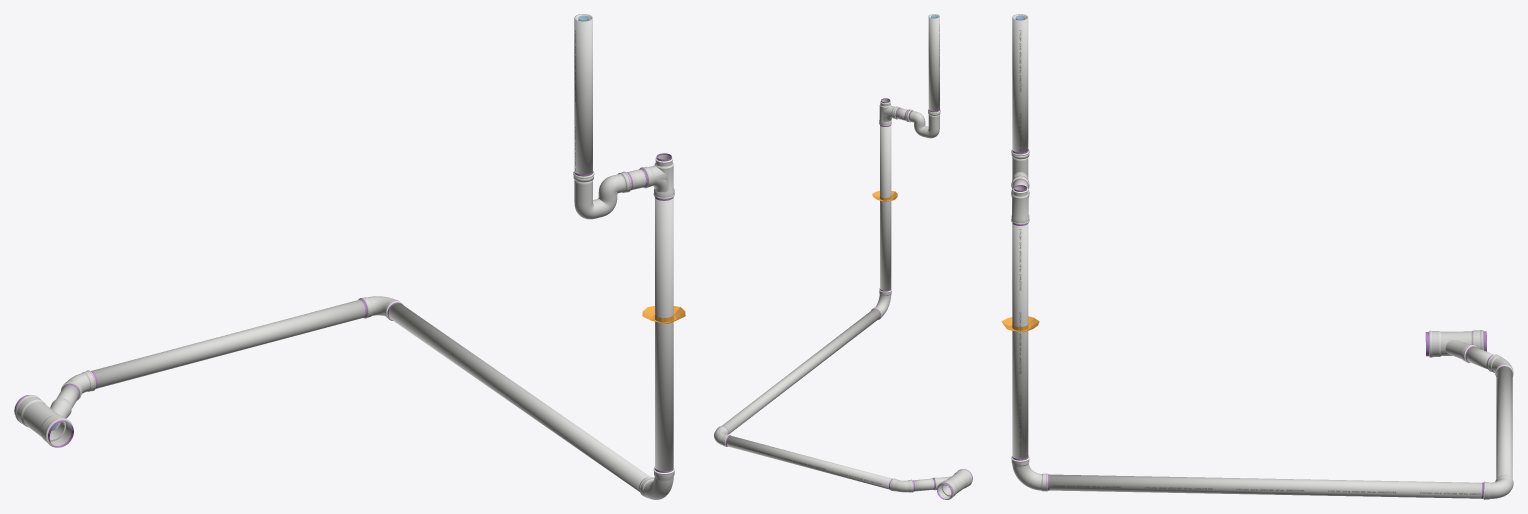
Rendered from pipes_dwv__fault-none+belly+vent_open_attic+vent_hole_wall+condensate_trap_dry.glb.
The picture shows the model from 3 angles, left to right: view 1: azimuth 30°, elevation 25°; view 2: azimuth 150°, elevation 25°; view 3: azimuth 270°, elevation 25°; orthographic projection. The views are drawn at different scales.
Parts seen in each view (by area): view 1: pipe_dwv_laundry, pipe_dwv_laundry_standpipe, fit_wye_pipe_dwv_laundry, laundry_p_trap, fit_tee_pipe_dwv_laundry; view 2: pipe_dwv_laundry, pipe_dwv_laundry_standpipe, fit_wye_pipe_dwv_laundry, laundry_p_trap, fit_tee_pipe_dwv_laundry; view 3: pipe_dwv_laundry, pipe_dwv_laundry_standpipe, fit_wye_pipe_dwv_laundry, fit_tee_pipe_dwv_laundry.
Part boxes in pixels (x1,y1,x2,y2): pipe_dwv_laundry: [56, 169, 674, 499]; pipe_dwv_laundry_standpipe: [574, 14, 592, 174]; fit_wye_pipe_dwv_laundry: [14, 395, 73, 447]; laundry_p_trap: [573, 171, 632, 219]; fit_tee_pipe_dwv_laundry: [639, 153, 674, 200]; pipe_dwv_laundry: [714, 108, 934, 492]; pipe_dwv_laundry_standpipe: [928, 14, 939, 111]; fit_wye_pipe_dwv_laundry: [932, 469, 972, 499]; laundry_p_trap: [904, 109, 940, 138]; fit_tee_pipe_dwv_laundry: [879, 98, 900, 126]; pipe_dwv_laundry: [1011, 179, 1513, 499]; pipe_dwv_laundry_standpipe: [1012, 14, 1028, 152]; fit_wye_pipe_dwv_laundry: [1425, 330, 1486, 362]; fit_tee_pipe_dwv_laundry: [1011, 185, 1029, 225].
Bounding box in the file's own units: 1.48 × 1.89 × 1.9.
6 materials, 1 textured.
